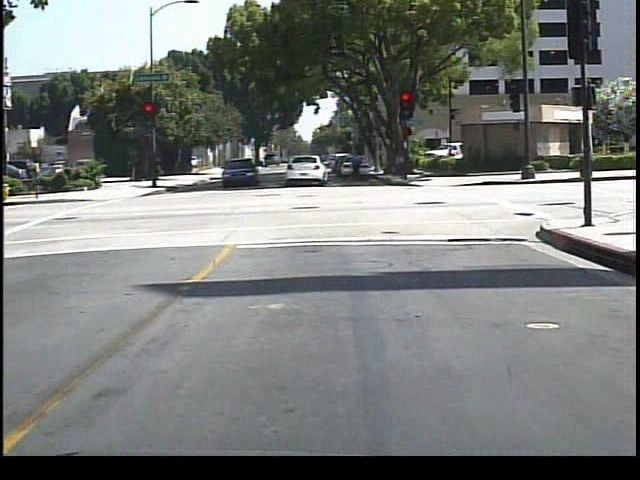person: (345, 144, 366, 186)
